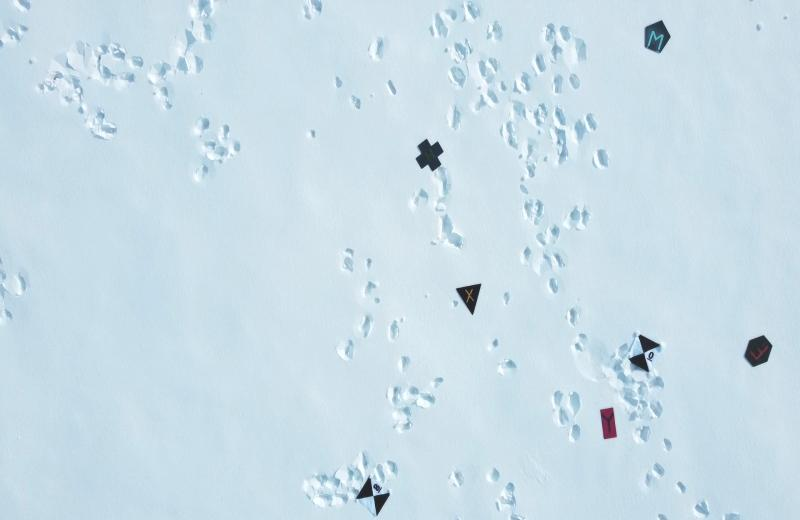Cross: (414, 138, 445, 176)
Hexagon: (743, 334, 775, 368)
Pentagon: (639, 18, 675, 58)
Rectangle: (599, 404, 619, 445)
Triangle: (455, 282, 486, 317)
